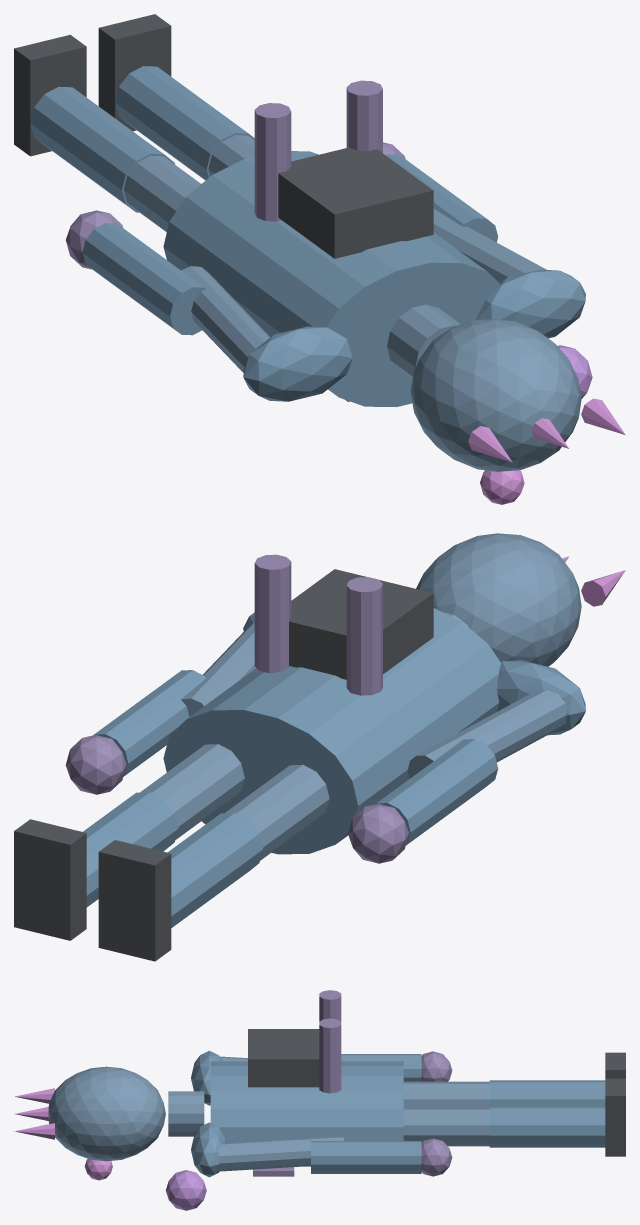
The model's file is SWN-026_daro_quen.glb.
The picture shows the model from 3 angles, top to bottom: view 1: azimuth 30°, elevation 25°; view 2: azimuth 150°, elevation 25°; view 3: azimuth 270°, elevation 25°; orthographic projection. The views are drawn at different scales.
Visible parts, largest first — view 1: body_spine, head, back_thruster_pack, greave_-1, greave_1, forearm_gauntlet_-1, shoulder_plate_-1, boot_-1, shoulder_plate_1, boot_1, upper_arm_-1, aether_thruster_-1 (+11 smaller); view 2: body_spine, head, back_thruster_pack, boot_-1, boot_1, greave_-1, forearm_gauntlet_-1, thigh_1, thigh_-1, upper_arm_-1, forearm_gauntlet_1, greave_1 (+7 smaller); view 3: body_spine, head, greave_1, back_thruster_pack, forearm_gauntlet_1, greave_-1, thigh_1, upper_arm_1, thigh_-1, aether_thruster_1, boot_1, neck (+12 smaller).
Boxes of the visible parts, x1=… form: body_spine: x1=163, y1=151, x2=500, y2=406; head: x1=410, y1=319, x2=581, y2=471; back_thruster_pack: x1=278, y1=147, x2=433, y2=258; greave_-1: x1=30, y1=86, x2=174, y2=212; greave_1: x1=115, y1=66, x2=254, y2=180; forearm_gauntlet_-1: x1=82, y1=223, x2=205, y2=335; shoulder_plate_-1: x1=243, y1=326, x2=352, y2=401; boot_-1: x1=14, y1=34, x2=86, y2=156; shoulder_plate_1: x1=476, y1=269, x2=585, y2=338; boot_1: x1=98, y1=14, x2=171, y2=131; upper_arm_-1: x1=181, y1=266, x2=270, y2=372; aether_thruster_-1: x1=254, y1=103, x2=291, y2=221; body_spine: x1=163, y1=608, x2=500, y2=854; head: x1=416, y1=533, x2=581, y2=666; back_thruster_pack: x1=289, y1=569, x2=433, y2=679; boot_-1: x1=98, y1=840, x2=171, y2=961; boot_1: x1=14, y1=819, x2=86, y2=940; greave_-1: x1=167, y1=813, x2=262, y2=927; forearm_gauntlet_-1: x1=375, y1=739, x2=498, y2=845; thigh_1: x1=140, y1=744, x2=244, y2=839; thigh_-1: x1=225, y1=764, x2=329, y2=860; upper_arm_-1: x1=407, y1=690, x2=566, y2=778; forearm_gauntlet_1: x1=93, y1=670, x2=205, y2=776; greave_1: x1=83, y1=792, x2=178, y2=907; body_spine: x1=210, y1=1061, x2=403, y2=1166; head: x1=48, y1=1066, x2=165, y2=1161; greave_1: x1=489, y1=1106, x2=605, y2=1147; back_thruster_pack: x1=248, y1=1029, x2=319, y2=1087; forearm_gauntlet_1: x1=311, y1=1141, x2=421, y2=1173; greave_-1: x1=489, y1=1080, x2=605, y2=1106; thigh_1: x1=403, y1=1108, x2=489, y2=1146; upper_arm_1: x1=218, y1=1136, x2=344, y2=1171; thigh_-1: x1=403, y1=1081, x2=489, y2=1107; aether_thruster_1: x1=319, y1=1018, x2=341, y2=1093; boot_1: x1=605, y1=1078, x2=625, y2=1156; neck: x1=168, y1=1091, x2=204, y2=1136.
Bounding box in the file's own units: 0.9708 × 0.73 × 2.38.
